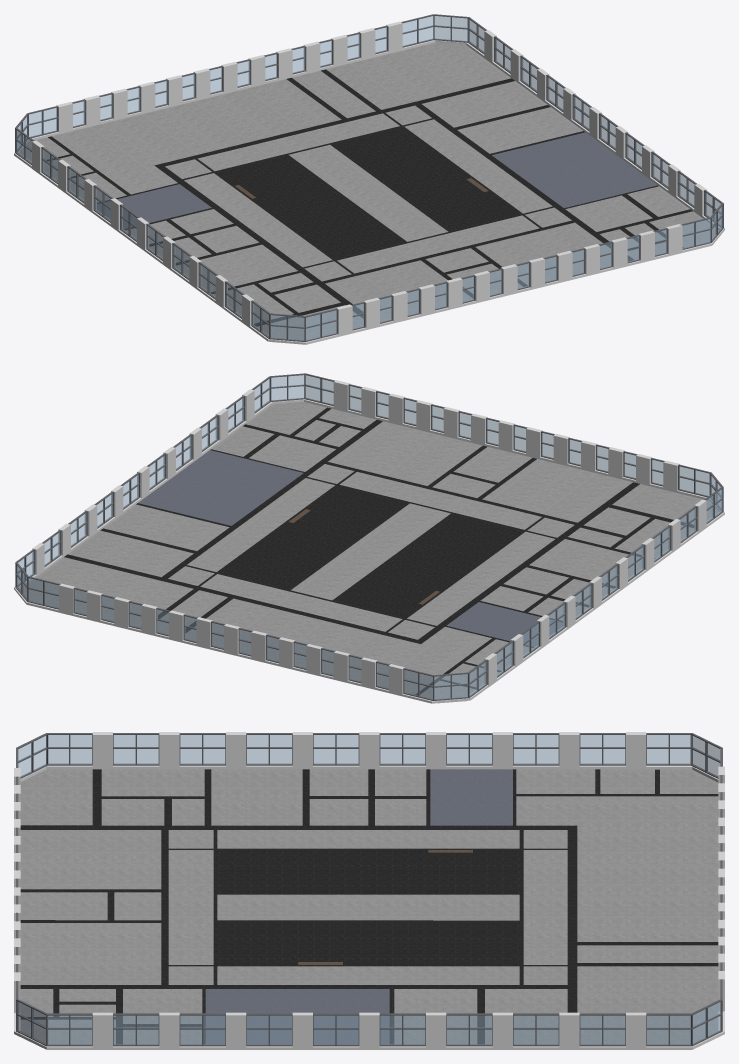
Rendered from wall 2.glb.
The picture shows the model from 3 angles, top to bottom: view 1: azimuth 30°, elevation 25°; view 2: azimuth 150°, elevation 25°; view 3: azimuth 270°, elevation 25°; orthographic projection. The views are drawn at different scales.
Parts seen in each view (by area): view 1: 地面, 外墙.013, 外墙.035, 外墙.044, 外墙.026, 外墙.006; view 2: 地面, 外墙.013, 外墙.035, 外墙.044, 外墙.002, 外墙.004, 外墙.026, 外墙.011; view 3: 地面, 外墙.026, 外墙.044, 外墙.036, 外墙.040, 外墙.042, 外墙.037, 外墙.038, 外墙.039, 外墙.041, 外墙.043, 外墙.014 (+55 smaller).
Boxes of the visible parts, <box> form: 地面: <box>20,42,718,342</box>; 外墙.013: <box>14,102,72,168</box>; 外墙.035: <box>666,215,724,256</box>; 外墙.044: <box>242,294,338,344</box>; 外墙.026: <box>402,30,496,63</box>; 外墙.006: <box>237,55,265,90</box>; 地面: <box>20,402,718,703</box>; 外墙.013: <box>388,664,488,703</box>; 外墙.035: <box>254,380,350,416</box>; 外墙.044: <box>677,490,724,533</box>; 外墙.002: <box>86,590,113,625</box>; 外墙.004: <box>141,603,168,639</box>; 外墙.026: <box>14,543,58,612</box>; 外墙.011: <box>333,650,361,686</box>; 地面: <box>20,769,718,1043</box>; 外墙.026: <box>626,1011,724,1049</box>; 外墙.044: <box>20,732,112,781</box>; 外墙.036: <box>579,732,646,769</box>; 外墙.040: <box>379,732,446,769</box>; 外墙.042: <box>179,732,246,769</box>; 外墙.037: <box>513,732,579,769</box>; 外墙.038: <box>446,732,512,769</box>; 外墙.039: <box>313,732,379,769</box>; 外墙.041: <box>246,732,312,769</box>; 外墙.043: <box>113,732,179,769</box>; 外墙.014: <box>92,1012,159,1049</box>.
Bounding box in the file's own units: 17.74 × 1.01 × 18.82.
Materials: 6 (4 with a texture image).
